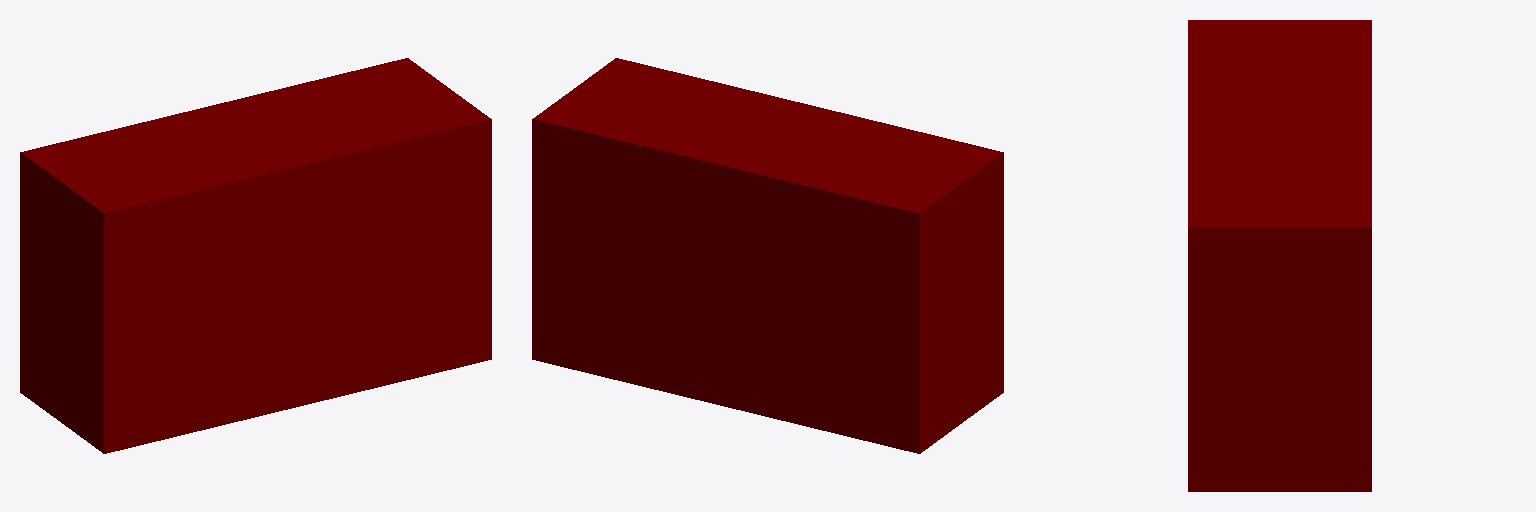
The robot description file, URDF, robot "box.urdf":
<?xml version="0.0" ?>
<robot name="box.urdf">
  <link name="baseLink">
    <contact>
      <lateral_friction value="0.5"/>
      <rolling_friction value="0.0"/>
      <contact_cfm value="0.0"/>
      <contact_erp value="1.0"/>
    </contact>
    <inertial>
      <origin rpy="0 0 0" xyz="0 0 0"/>
       <mass value=".01"/>
       <inertia ixx="1" ixy="0" ixz="0" iyy="1" iyz="0" izz="1"/>
    </inertial>
    <visual>
      <origin rpy="0 0 0" xyz="0 0 0"/>
      <geometry>
				<mesh filename="box.obj" scale="0.16 0.06 0.095"/>
      </geometry>
       <material name="white">
        <color rgba="0.5 0 0 1"/>
      </material>
    </visual>
    <collision>
      <origin rpy="0 0 0" xyz="0 0 0"/>
      <geometry>
	 	<box size="0.16 0.06 0.095"/>
      </geometry>
    </collision>
  </link>
</robot>

--- Render facts (derived) ---
3 views of the same robot in one strip: view 1: azimuth 30°, elevation 25°; view 2: azimuth 150°, elevation 25°; view 3: azimuth 270°, elevation 25° (orthographic).
Model box.urdf with 1 links and 0 joints (none), rooted at baseLink, posed every joint at zero.
Links seen in each view (by area): view 1: baseLink; view 2: baseLink; view 3: baseLink.
Link boxes in pixels (x1,y1,x2,y2): baseLink: (20,58,491,453); baseLink: (532,58,1003,453); baseLink: (1188,20,1371,491).
Bounding box of the posed robot: 0.16 × 0.06 × 0.095 m (x, y, z).
Meshes: 1 distinct files referenced, 1 mesh visuals loaded (1 OBJ).